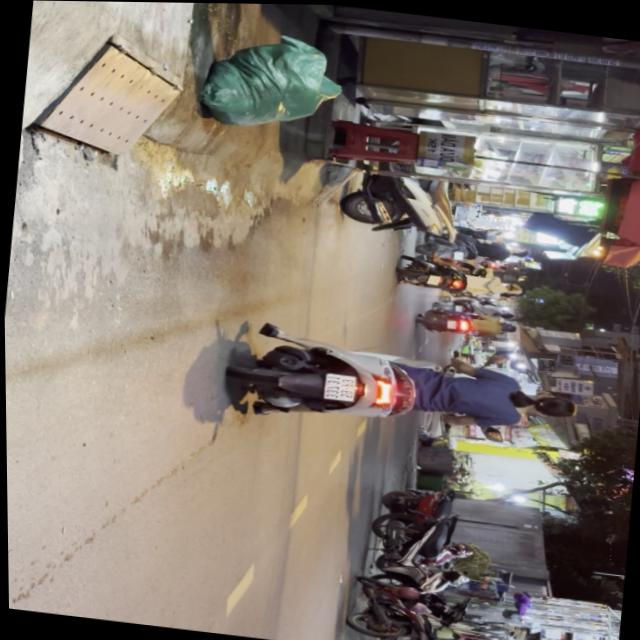licenseplate: (221, 319, 585, 454)
motorcyclist: (522, 390, 577, 421)
nohelmet: (322, 372, 355, 402)
